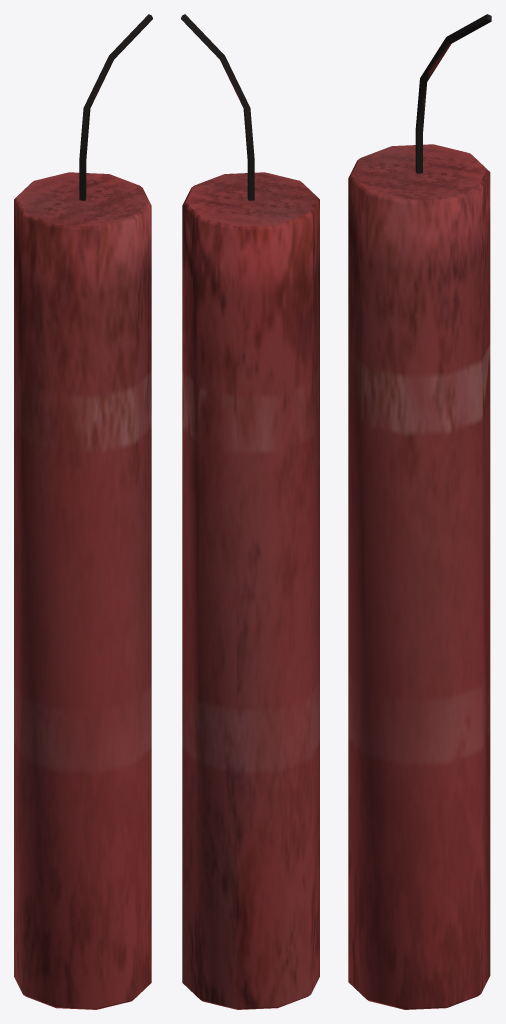
The model's file is item_dynamite.dae.
3 renders of one model, left to right at view 1: azimuth 30°, elevation 25°; view 2: azimuth 150°, elevation 25°; view 3: azimuth 330°, elevation 25°, orthographic. The views are drawn at different scales.
Parts seen in each view (by area): view 1: dynamite; view 2: dynamite; view 3: dynamite.
Part boxes in pixels (left/top/right/bottom): dynamite: left=14, top=14, right=152, bottom=1009; dynamite: left=181, top=14, right=319, bottom=1009; dynamite: left=348, top=14, right=491, bottom=1009.
Size of what is drawn, in the model's own units: 0.0434 by 0.304 by 0.038.
